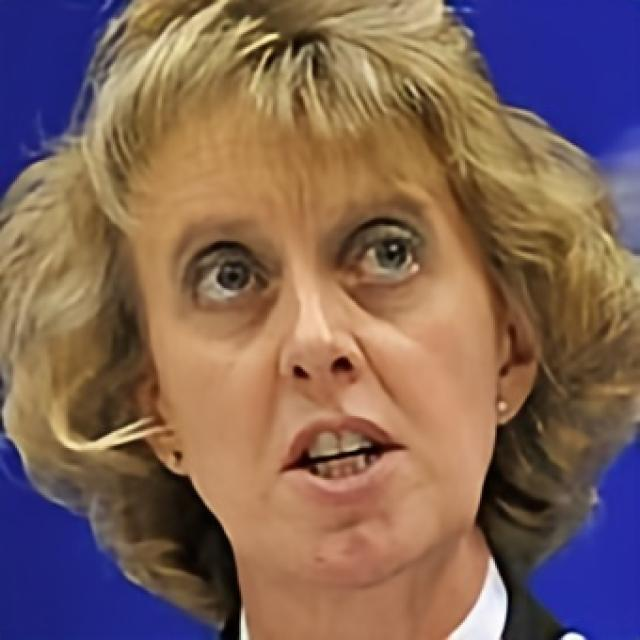surprise: (133, 82, 499, 593)
